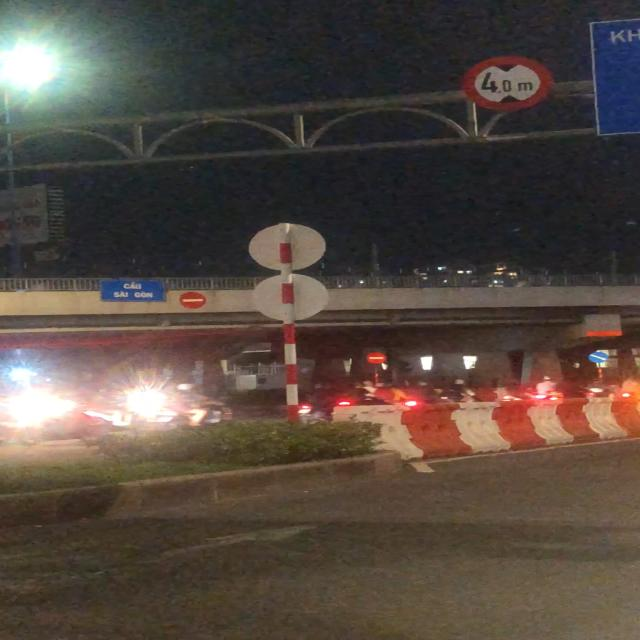Bien bao cam di nguoc chieu: (177, 290, 210, 310), (364, 350, 388, 365)
Bien bao han che chieu cao: (460, 52, 558, 111)
Bien bao huong phai di vong chuong ngai vat: (586, 349, 612, 365)
